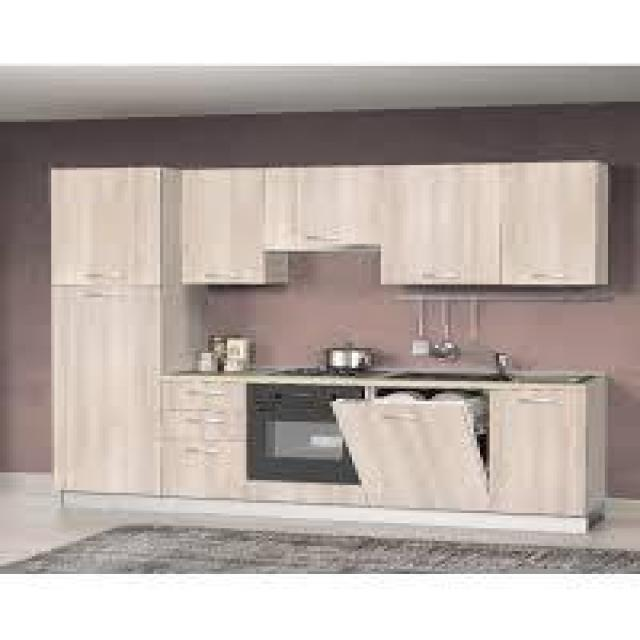dishwasher: (330, 378, 496, 516)
